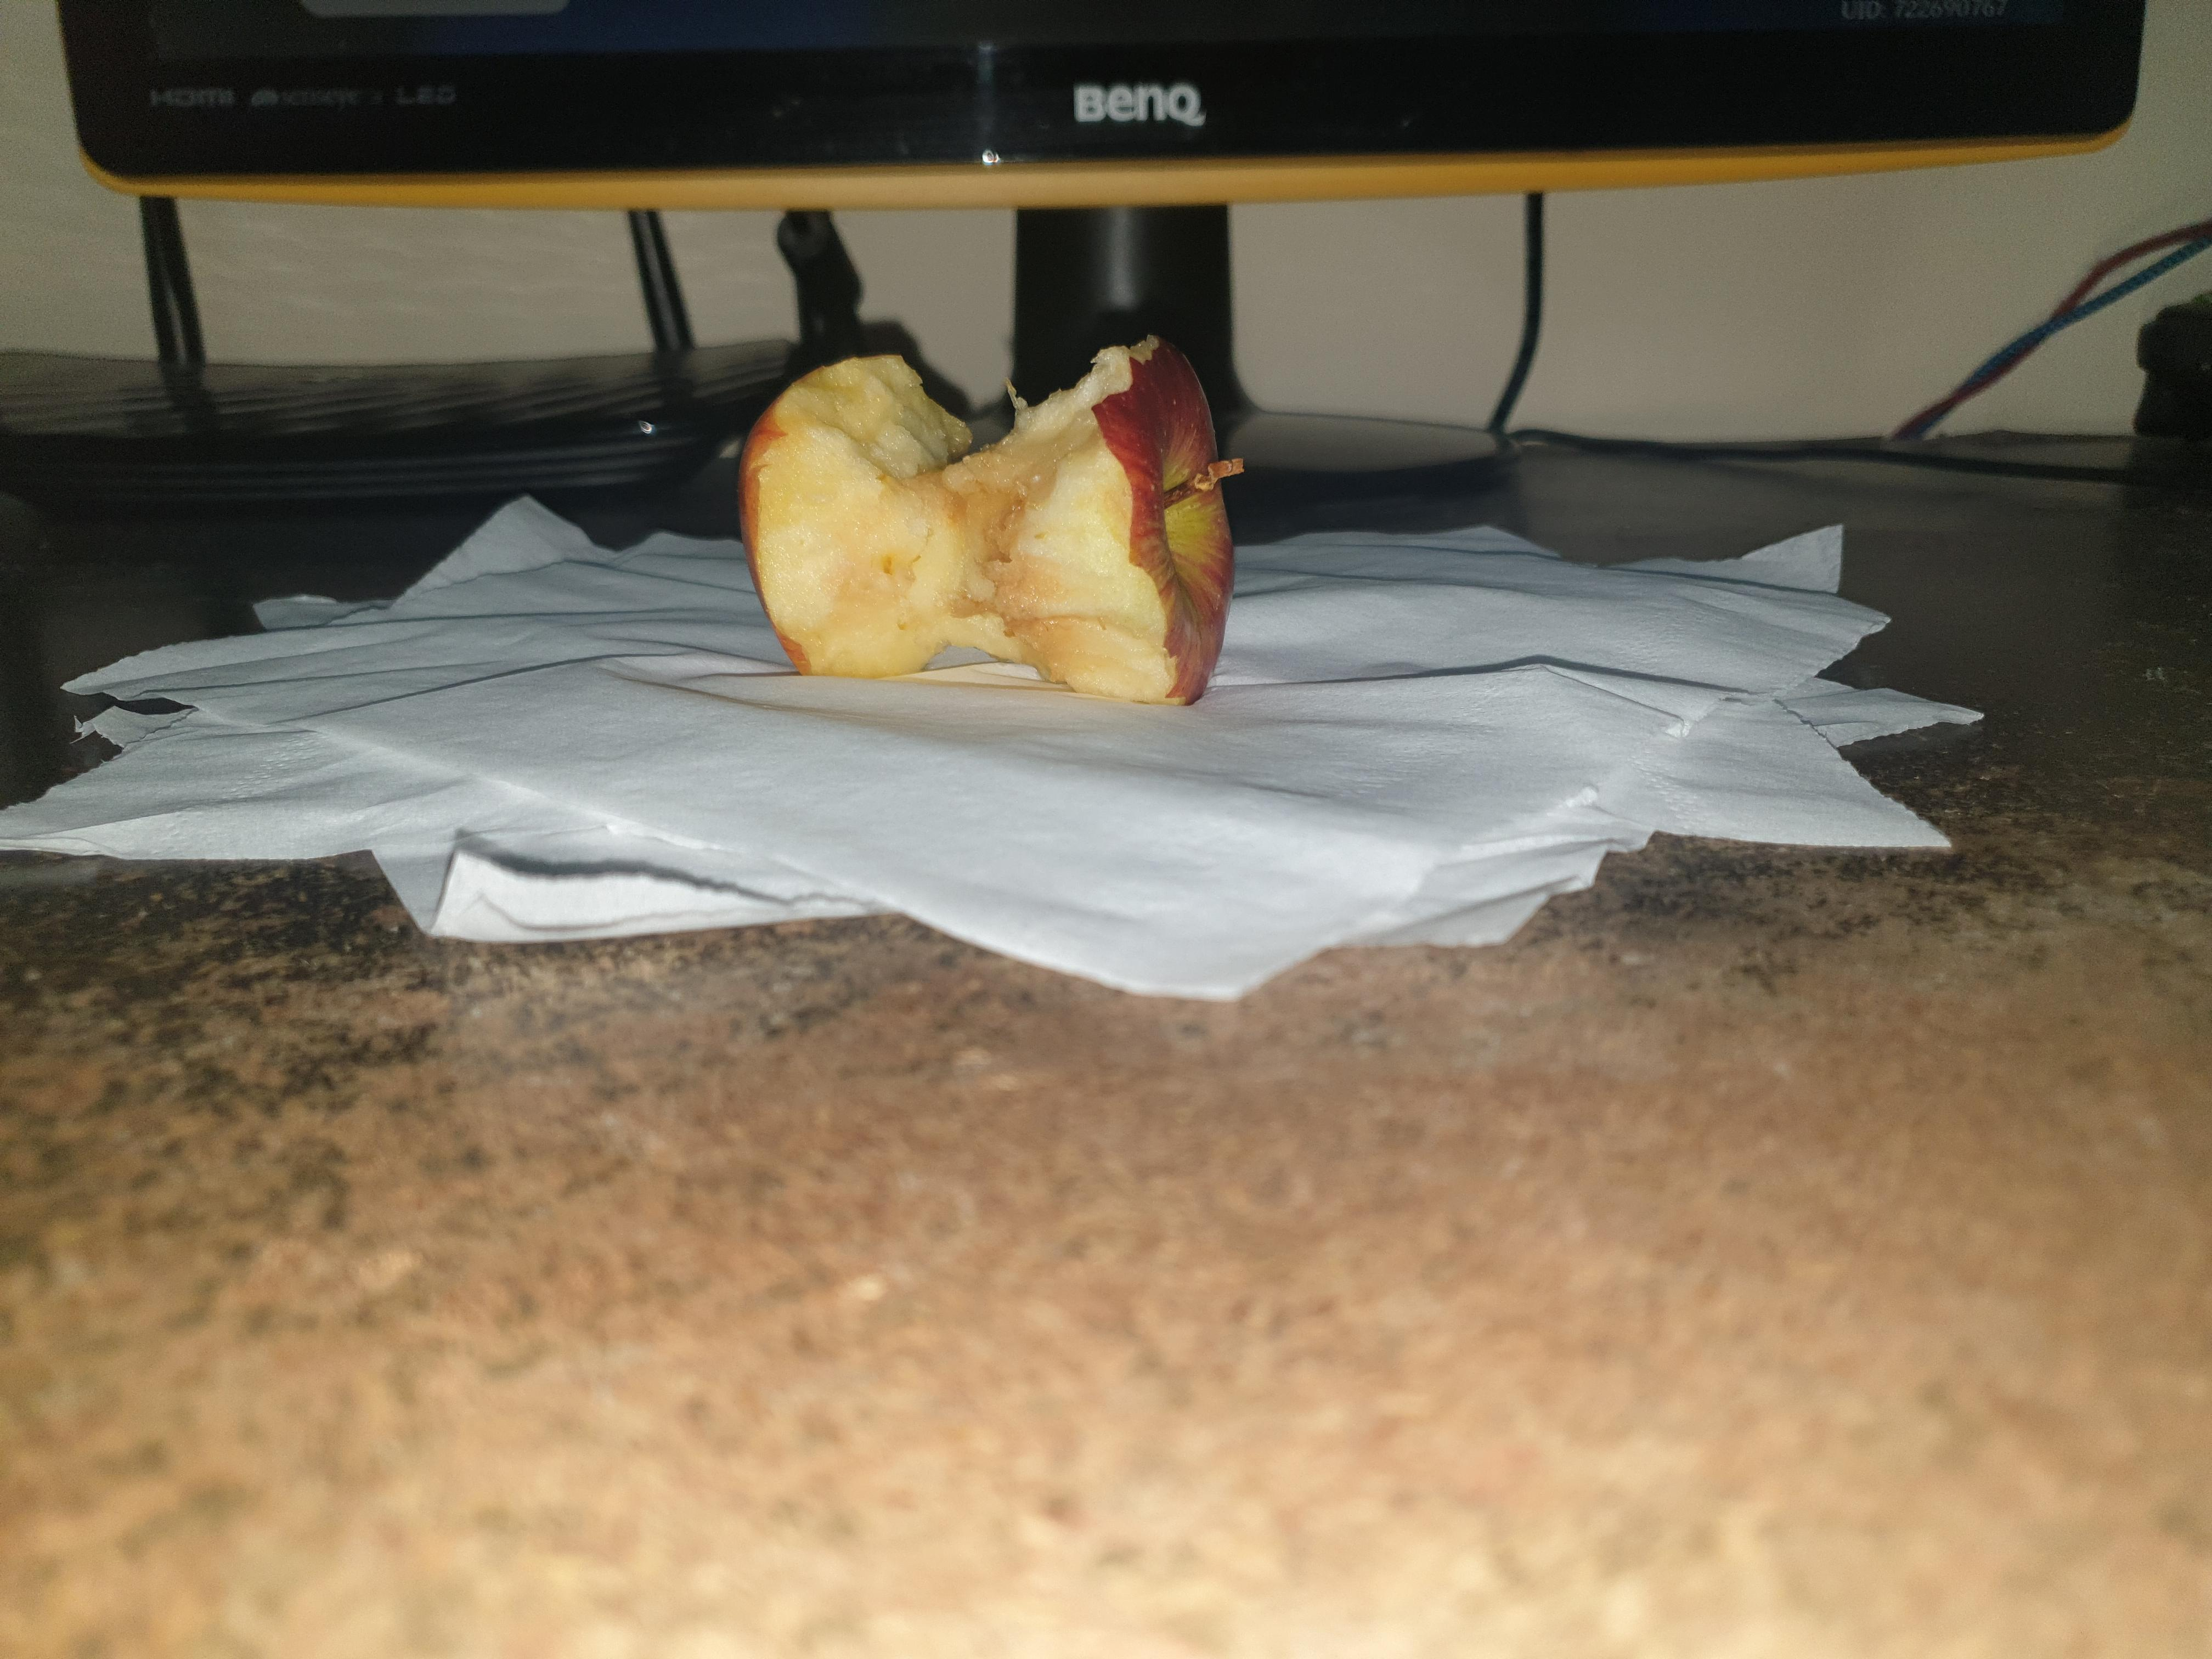Apple: (728, 300, 1320, 748)
